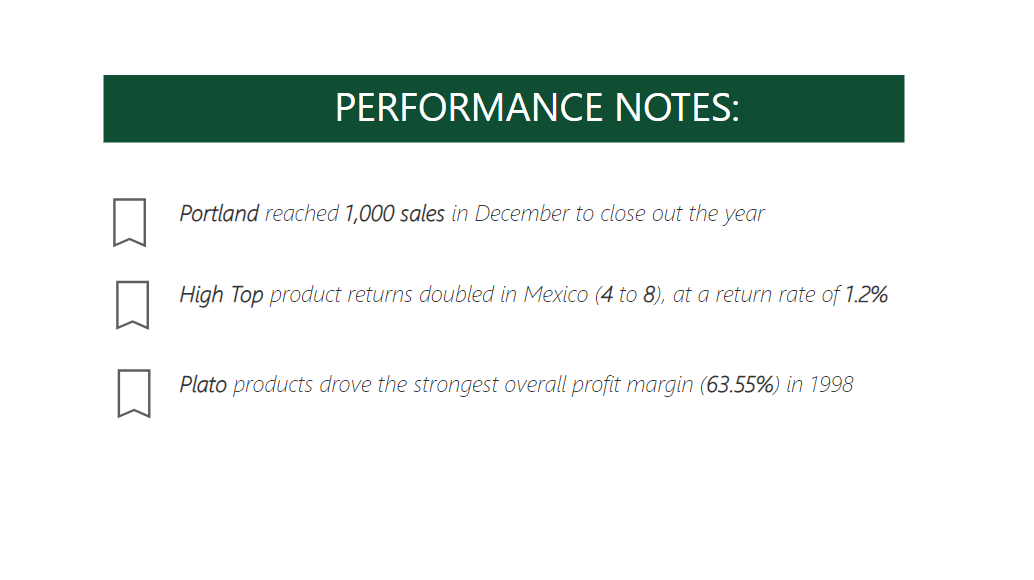

This screenshot's page, from the dashboard's own definition file:
{"tool":"powerbi","page":{"name":"Notes","canvas":[1280,720],"ordinal":1},"visuals":[{"type":"textbox","box":[217.3,241.4,800,75.9],"z":0},{"type":"actionButton","box":[122.8,241.4,79.6,75.9],"z":1000},{"type":"textbox","box":[127.8,96.3,1070.4,83.3],"z":2000},{"type":"actionButton","box":[126.5,343.2,79.6,75.9],"z":3000},{"type":"actionButton","box":[128.4,452.5,79.6,75.9],"z":4000},{"type":"textbox","box":[217.3,341.4,922.2,77.8],"z":5000},{"type":"textbox","box":[1116,62.5,164,150],"z":6000},{"type":"textbox","box":[217.3,452.5,929.6,75.9],"z":7000}]}

Visuals, with their boxes in screenshot pixels (x1, y1, x2, y2), scaled from the page's 1280x720 canvas onto the 1034x580 screenshot:
textbox: x1=176 y1=194 x2=822 y2=256
actionButton: x1=99 y1=194 x2=164 y2=256
textbox: x1=103 y1=78 x2=968 y2=145
actionButton: x1=102 y1=276 x2=166 y2=338
actionButton: x1=104 y1=365 x2=168 y2=426
textbox: x1=176 y1=275 x2=921 y2=338
textbox: x1=902 y1=50 x2=1033 y2=171
textbox: x1=176 y1=365 x2=926 y2=426
